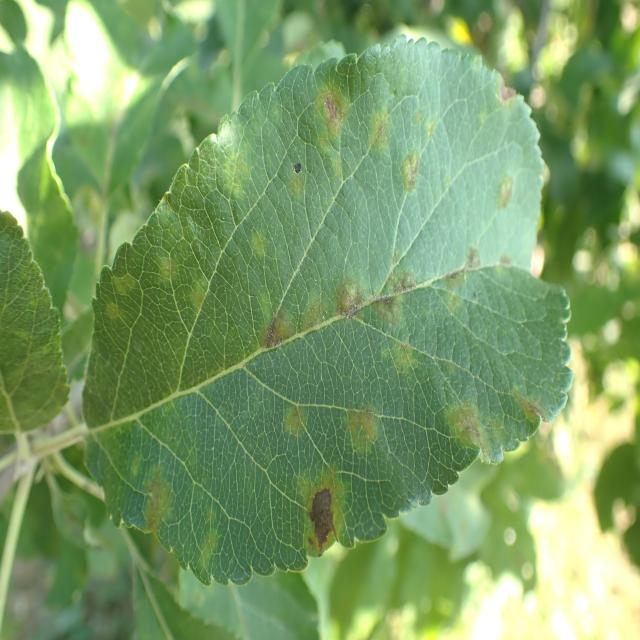scab: (230, 250, 565, 548), (256, 41, 539, 234), (102, 232, 216, 583)
